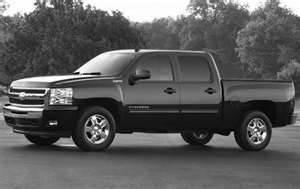car: (3, 48, 297, 153)
